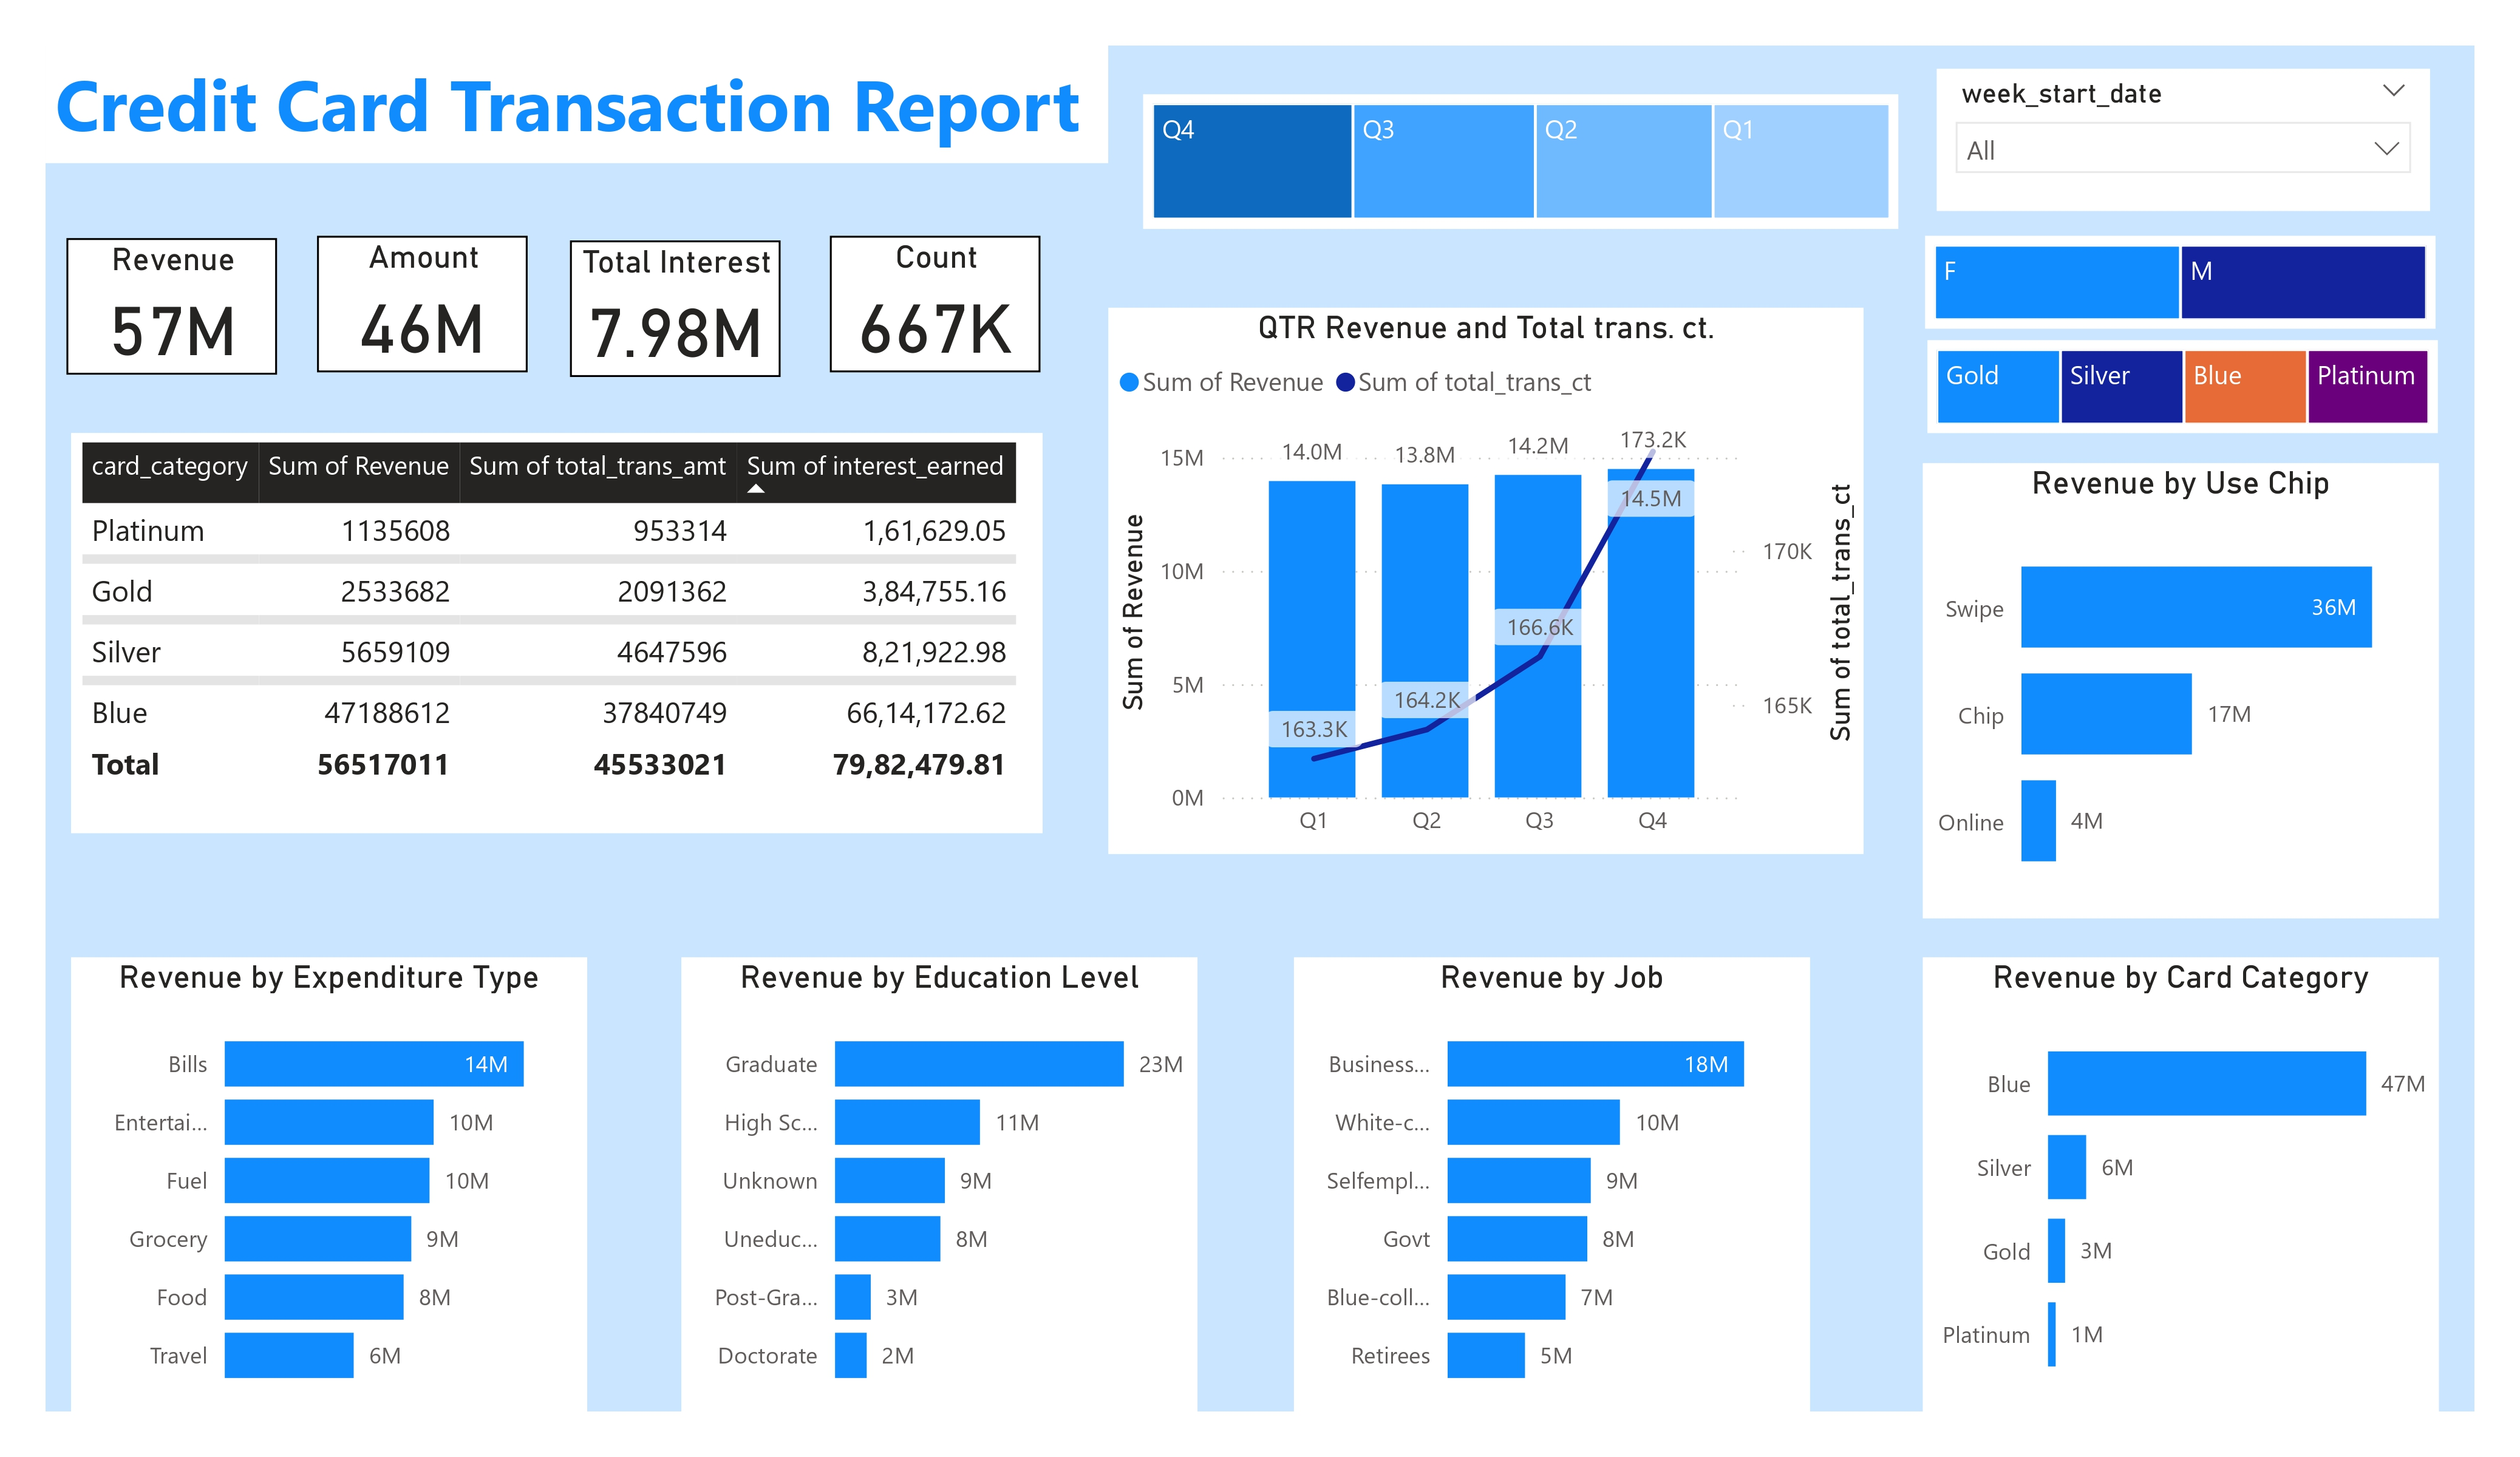

Layout of this report page (visuals, bound fields, positions):
{"tool":"powerbi","page":{"name":"Credit Card Transaction","canvas":[1280,720],"ordinal":0},"visuals":[{"type":"textbox","box":[0,0,560,61.5],"z":0},{"type":"lineStackedColumnComboChart","title":"QTR Revenue and Total trans. ct.","fields":{"Category":["public cc_detail.qtr"],"Y":["Sum(public cc_detail.Revenue)"],"Y2":["Sum(public cc_detail.total_trans_ct)"]},"box":[560,138.5,398.5,287.7],"z":1000},{"type":"barChart","title":"Revenue by Expenditure Type","fields":{"Category":["public cc_detail.exp_type"],"Y":["Sum(public cc_detail.Revenue)"]},"box":[13.8,480,272.3,240],"z":2000},{"type":"barChart","title":"Revenue by Education Level","fields":{"Y":["Sum(public cc_detail.Revenue)"],"Category":["public cust_detail.education_level"]},"box":[335.4,480,272.3,240],"z":3000},{"type":"barChart","title":"Revenue by Job","fields":{"Category":["public cust_detail.customer_job"],"Y":["Sum(public cc_detail.Revenue)"]},"box":[658.5,480,272.3,240],"z":4000},{"type":"barChart","title":"Revenue by Card Category","fields":{"Category":["public cc_detail.card_category"],"Y":["Sum(public cc_detail.Revenue)"]},"box":[989.2,480,272.3,240],"z":5000},{"type":"barChart","title":"Revenue by Use Chip","fields":{"Y":["Sum(public cc_detail.Revenue)"],"Category":["public cc_detail.use_chip"]},"box":[989.2,220,272.3,240],"z":6000},{"type":"tableEx","fields":{"Values":["public cc_detail.card_category","Sum(public cc_detail.Revenue)","Sum(public cc_detail.total_trans_amt)","Sum(public cc_detail.interest_earned)"]},"box":[13.8,204.6,512.3,210.8],"z":7000},{"type":"card","title":"Revenue","fields":{"Values":["Sum(public cc_detail.Revenue)"]},"box":[10.5,101.7,111,72.4],"z":8000},{"type":"card","title":"Amount","fields":{"Values":["Sum(public cc_detail.total_trans_amt)"]},"box":[142.5,100.6,110.8,72.3],"z":9000},{"type":"card","title":"Total Interest","fields":{"Values":["Sum(public cc_detail.interest_earned)"]},"box":[276.3,102.2,110.8,72.3],"z":10000},{"type":"card","title":"Count","fields":{"Values":["Sum(public cc_detail.total_trans_ct)"]},"box":[413.2,100.6,110.8,72.3],"z":11000},{"type":"slicer","fields":{"Values":["public cc_detail.week_start_date"]},"box":[996.9,12.3,260,75.4],"z":12000},{"type":"treemap","fields":{"Group":["public cc_detail.qtr"],"Values":["Avg(public cc_detail.client_num)"]},"box":[578.5,26.2,398.5,70.8],"z":13000},{"type":"treemap","fields":{"Group":["public cust_detail.gender"],"Values":["Avg(public cc_detail.client_num)"]},"box":[990.8,100,269.2,49.2],"z":14000},{"type":"treemap","fields":{"Group":["public cc_detail.card_category"],"Values":["Avg(public cc_detail.client_num)"]},"box":[992.3,155.4,269.2,49.2],"z":15000}]}

Visuals, with their boxes in screenshot pixels (x1, y1, x2, y2):
textbox: region(46, 46, 1108, 162)
"QTR Revenue and Total trans. ct." lineStackedColumnComboChart: region(1108, 308, 1864, 854)
"Revenue by Expenditure Type" barChart: region(72, 956, 588, 1411)
"Revenue by Education Level" barChart: region(682, 956, 1199, 1411)
"Revenue by Job" barChart: region(1295, 956, 1812, 1411)
"Revenue by Card Category" barChart: region(1922, 956, 2439, 1411)
"Revenue by Use Chip" barChart: region(1922, 463, 2439, 918)
tableEx - public cc_detail.card_category x Sum(public cc_detail.Revenue): region(72, 433, 1044, 834)
"Revenue" card: region(66, 239, 276, 376)
"Amount" card: region(316, 236, 526, 373)
"Total Interest" card: region(570, 239, 780, 376)
"Count" card: region(829, 236, 1040, 373)
slicer - public cc_detail.week_start_date: region(1937, 69, 2431, 212)
treemap - public cc_detail.qtr x Avg(public cc_detail.client_num): region(1143, 95, 1899, 229)
treemap - public cust_detail.gender x Avg(public cc_detail.client_num): region(1926, 236, 2436, 328)
treemap - public cc_detail.card_category x Avg(public cc_detail.client_num): region(1929, 341, 2439, 433)
